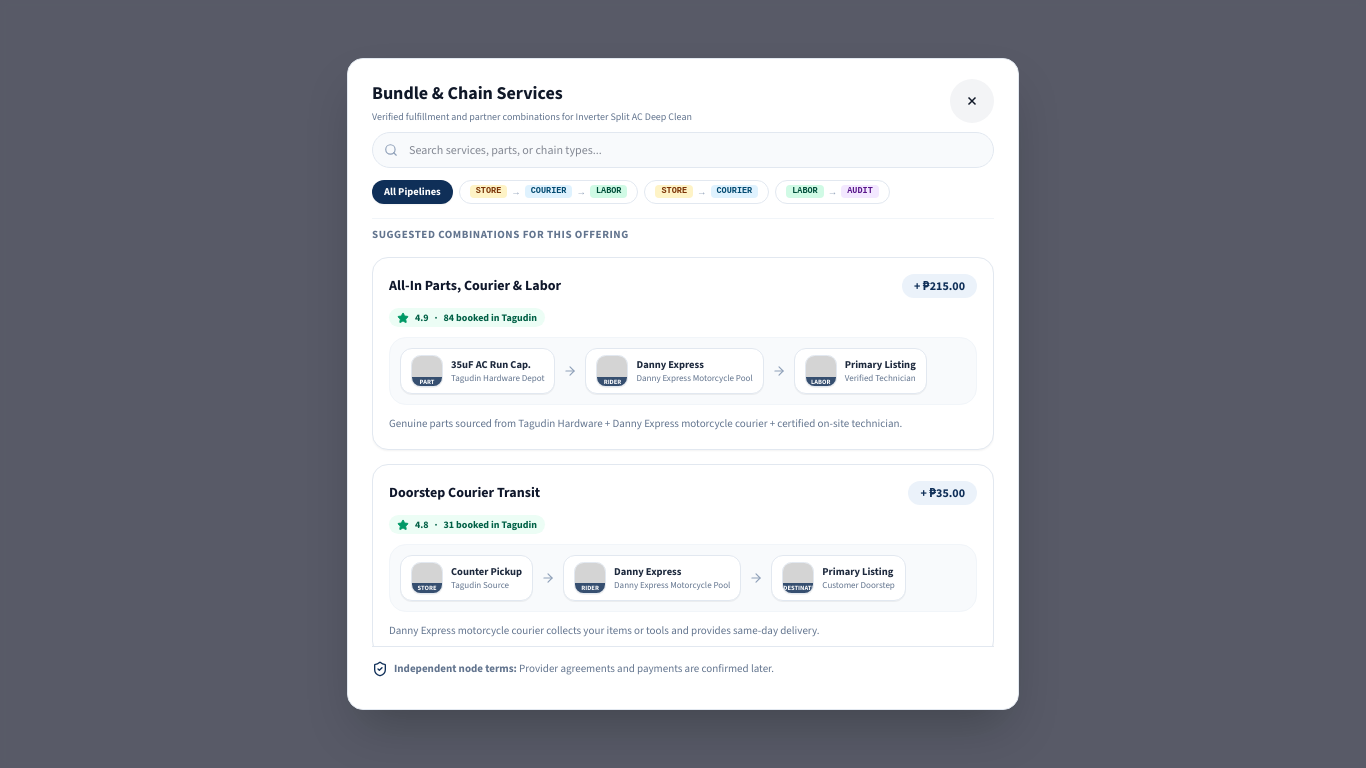
Scenario: BundleChainModal › filters combinations by compact node-wire pattern capsule
Click the button with aria-label "Filter by pipeline STORE → COURIER".
click(707, 192)  # box x1=644 y1=180 x2=769 y2=204
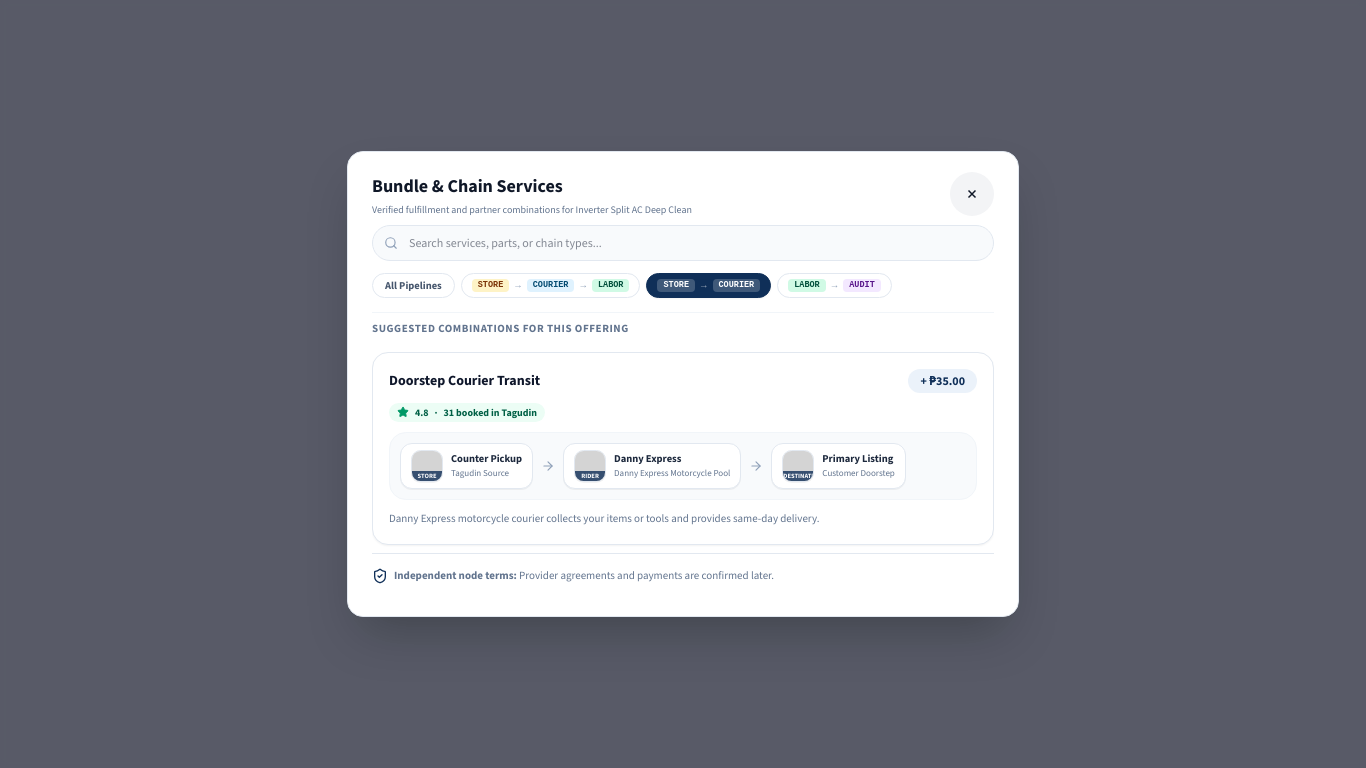
Expected: the heading "Doorstep Courier Transit" is shown, x1=389 y1=371 x2=540 y2=391
Expected: the heading "All-In Parts, Courier & Labor" is gone
